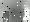person: (23, 6, 30, 22), (4, 9, 10, 22)
